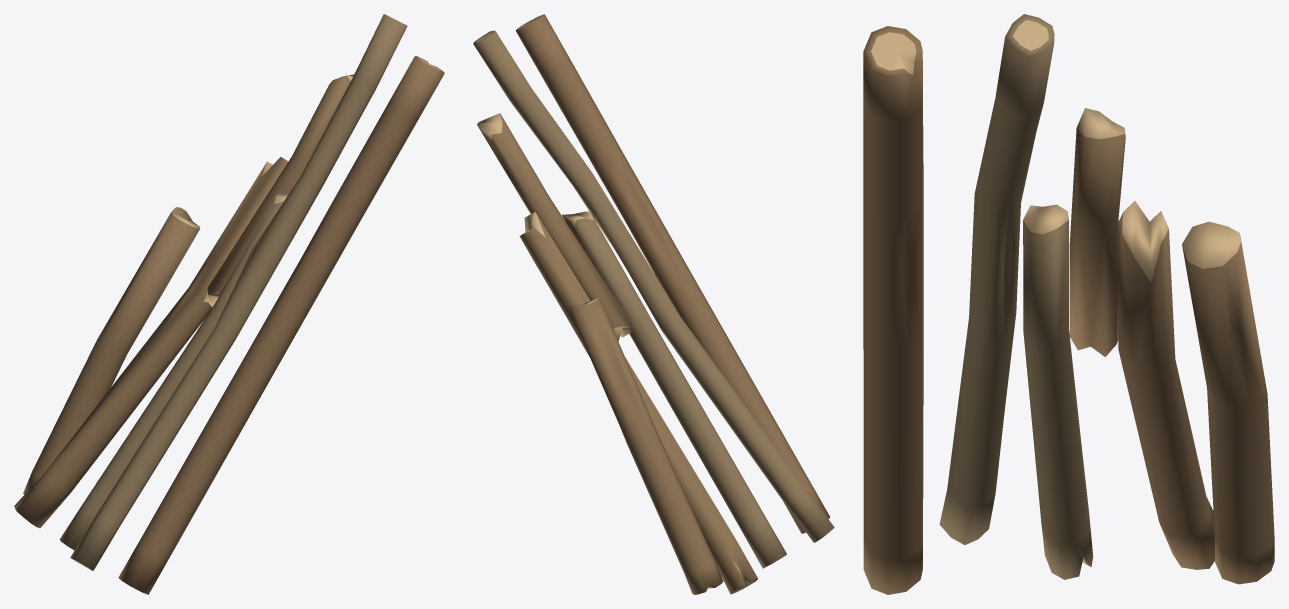
File: rpgpp_av_roof_01_6x5x3_half_c.gltf
The picture shows the model from 3 angles, left to right: view 1: azimuth 30°, elevation 25°; view 2: azimuth 150°, elevation 25°; view 3: azimuth 270°, elevation 25°; orthographic projection. The views are drawn at different scales.
Visible parts, largest first — view 1: rpgpp_av_roof_01_6x5x3_half_c; view 2: rpgpp_av_roof_01_6x5x3_half_c; view 3: rpgpp_av_roof_01_6x5x3_half_c.
Boxes of the visible parts, x1,y1,x2,y2 form: rpgpp_av_roof_01_6x5x3_half_c: (14,14,444,594); rpgpp_av_roof_01_6x5x3_half_c: (473,14,834,594); rpgpp_av_roof_01_6x5x3_half_c: (863,14,1274,594).
Size of the model in its own units: 0.0492 by 0.0638 by 0.0292.
1 material, 1 textured.
